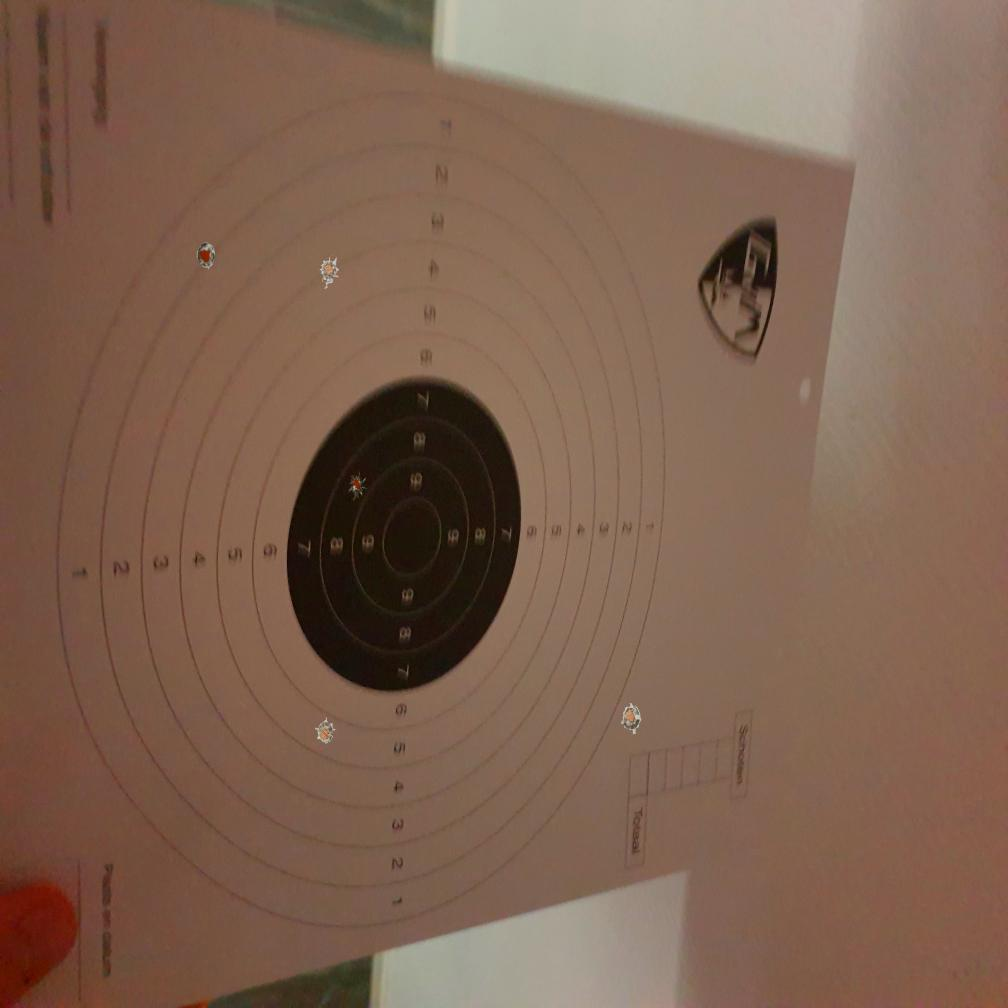0: (621, 703, 642, 735)
2: (197, 242, 215, 271)
4: (320, 256, 340, 287)
5: (314, 718, 337, 745)
8: (347, 474, 366, 500)
Target: (55, 85, 664, 936)
black_contour: (286, 377, 522, 693)
